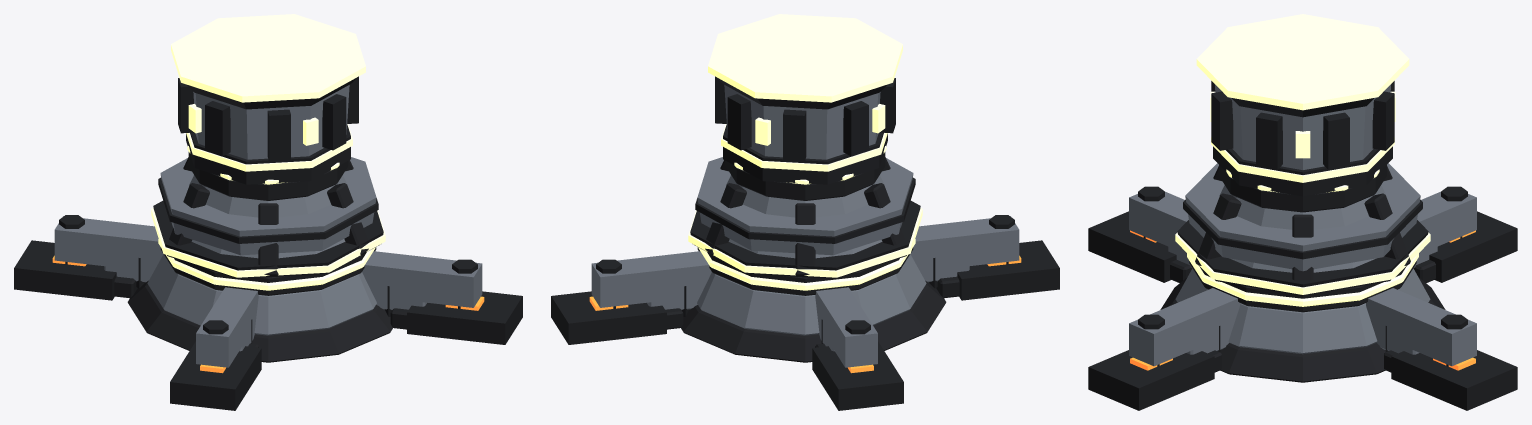
File: tower_siege_base.glb
3 renders of one model, left to right at view 1: azimuth 30°, elevation 25°; view 2: azimuth 150°, elevation 25°; view 3: azimuth 270°, elevation 25°, orthographic. The views are drawn at different scales.
Parts seen in each view (by area): view 1: TowerSiege_Base; view 2: TowerSiege_Base; view 3: TowerSiege_Base.
Part boxes in pixels (x1,y1,x2,y2): TowerSiege_Base: (14, 14, 522, 410); TowerSiege_Base: (551, 14, 1059, 410); TowerSiege_Base: (1088, 14, 1517, 410).
Bounding box in the file's own units: 1.2 × 0.808 × 1.2.
